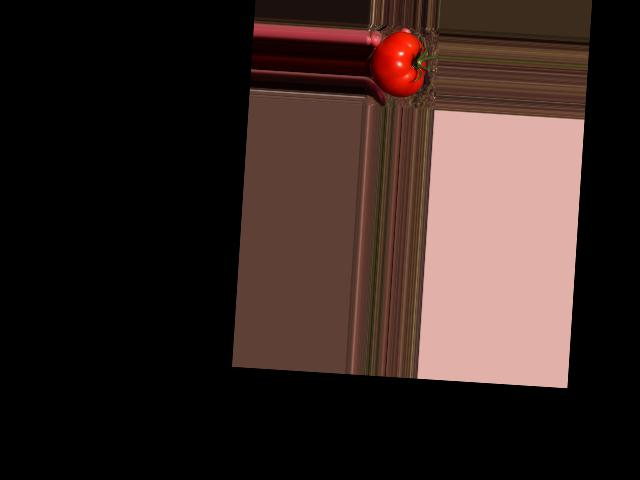tomato: (368, 29, 427, 98)
